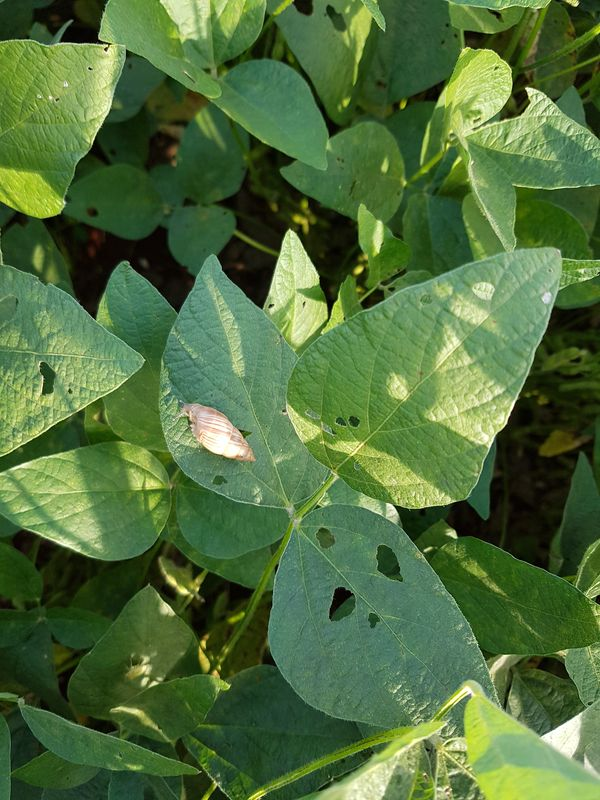Gastropoda: (157, 391, 267, 483)
